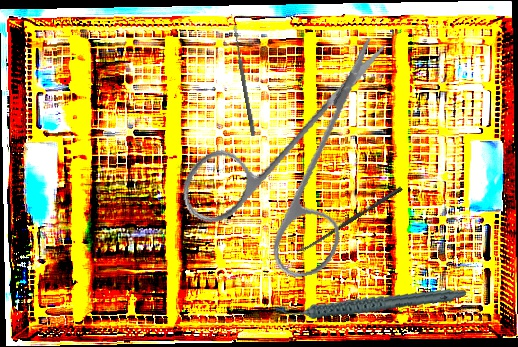Handpiece: (275, 265, 467, 338)
Iris Scissors: (160, 35, 427, 296)
Surgical Spoon: (296, 185, 403, 256), (231, 24, 257, 137)
